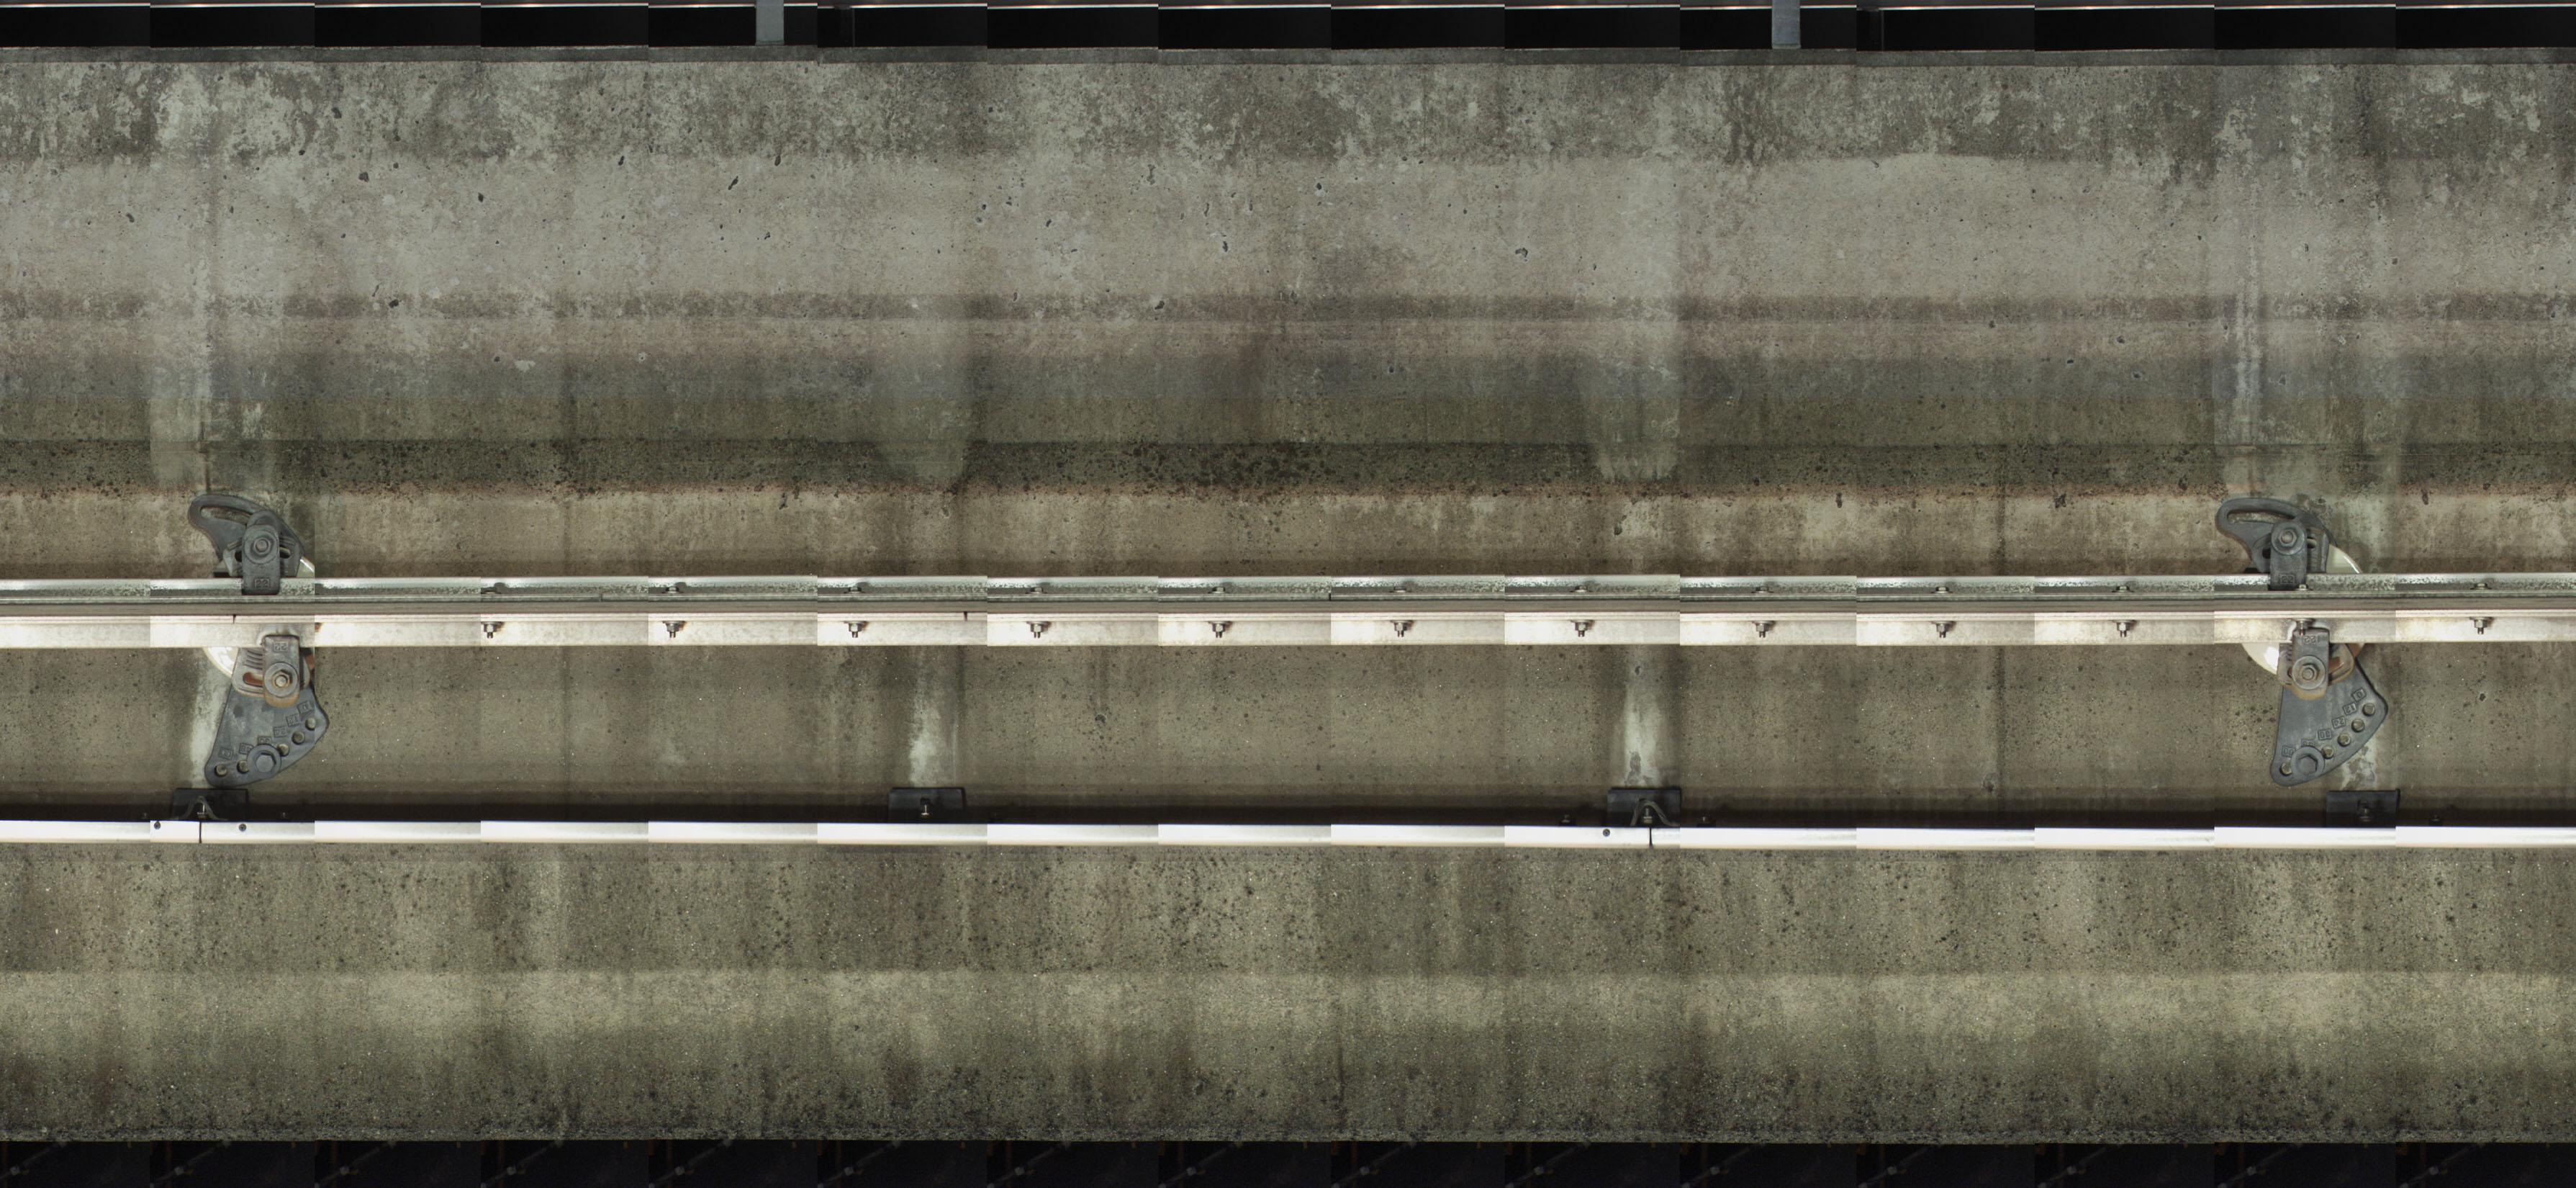concrete: (3, 49, 2576, 580), (3, 641, 2576, 1145)
